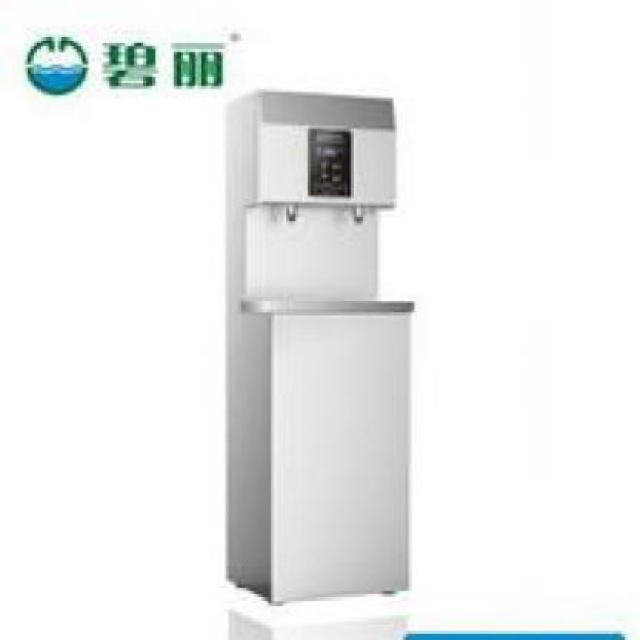cooler: (223, 88, 418, 607)
